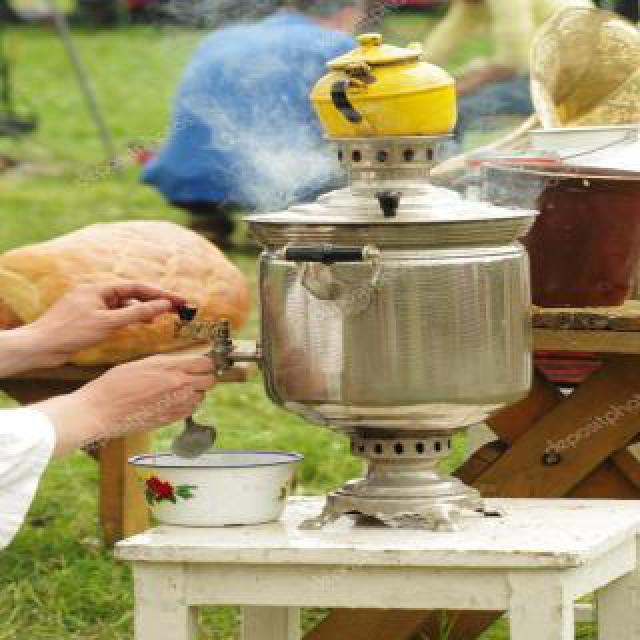smoke: (164, 10, 332, 216)
